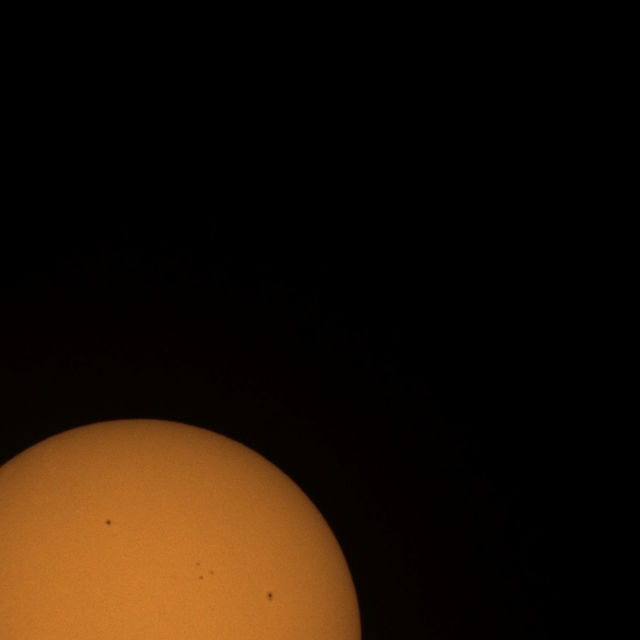sunspot: (194, 562, 216, 580), (266, 591, 274, 602), (105, 519, 113, 527), (208, 568, 215, 577), (195, 561, 202, 569)
